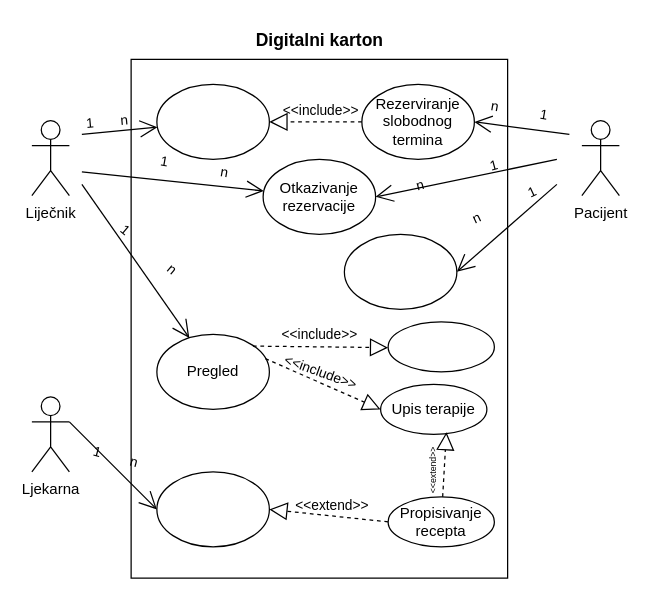
Some shapes in this 649 by 600 pixel diagram are drawn without their labels. The box of each missing label's shape, as (x1, y1, x2, y2) in pixels:
Izdavanje lijeka: (156, 471, 269, 547)
Pregled kartona: (343, 233, 457, 309)
Upis dijagnoze: (387, 321, 494, 372)
Upis slobodnog termina: (156, 83, 269, 159)
